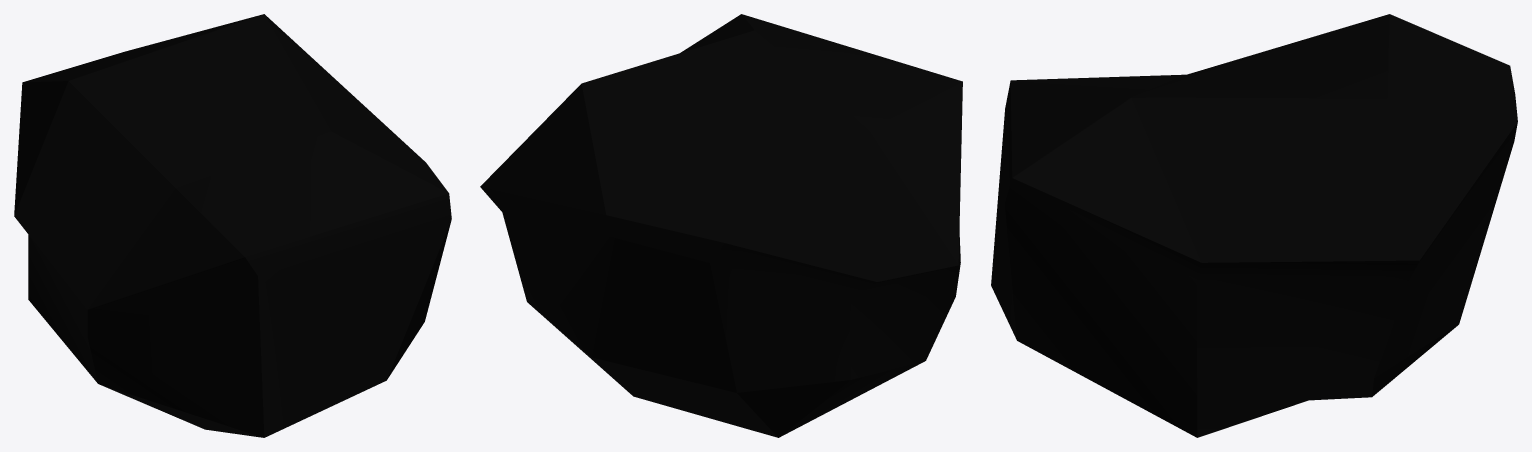
Rendered from Stone.obj.
3 views of the same model, side by side, from view 1: azimuth 30°, elevation 25°; view 2: azimuth 150°, elevation 25°; view 3: azimuth 270°, elevation 25° (orthographic). The views are drawn at different scales.
Bounding box in the file's own units: 5.38 × 4.39 × 6.35.
Materials: 1 (1 with a texture image).
